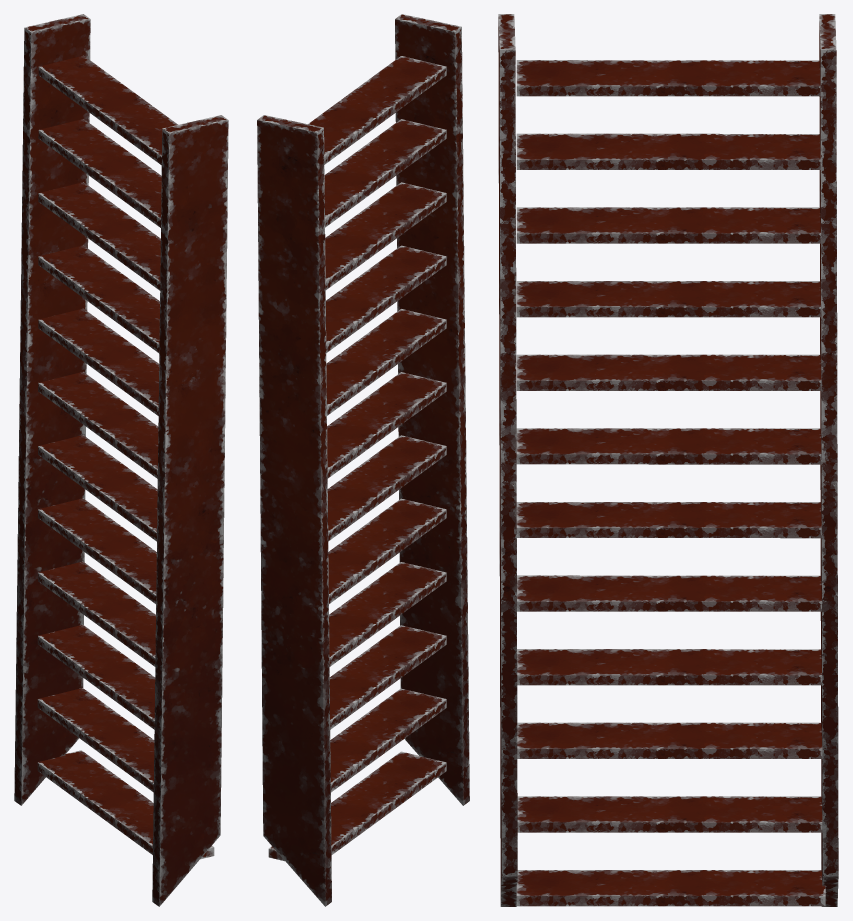
Rendered from StraightLadder.fbx.
3 views of the same model, side by side, from view 1: azimuth 30°, elevation 25°; view 2: azimuth 150°, elevation 25°; view 3: azimuth 270°, elevation 25° (orthographic). The views are drawn at different scales.
Visible parts, largest first — view 1: Vert.070; view 2: Vert.070; view 3: Vert.070.
Part boxes in pixels (x1,y1,x2,y2): Vert.070: (14,14,228,906); Vert.070: (257,14,469,906); Vert.070: (498,14,838,906).
Size of the model in its own units: 251 by 2686 by 922.
2 materials, 2 textured.
